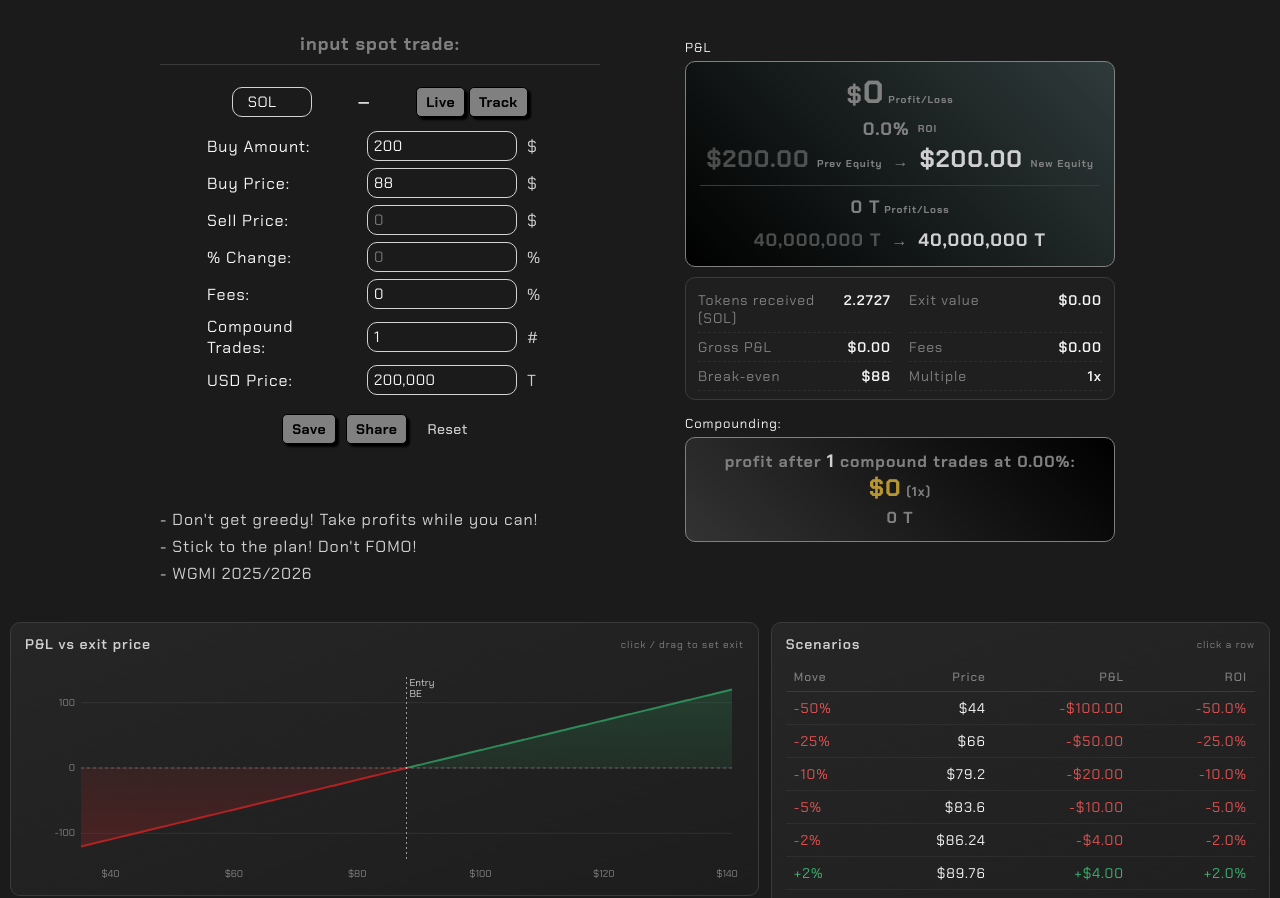
Test: Spot calculator inputs (no jumping) › formats large sell prices with separators while typing
Step 1. Type "12345" into the field named "Sell Price" → (442, 220), box [367,205,517,235]
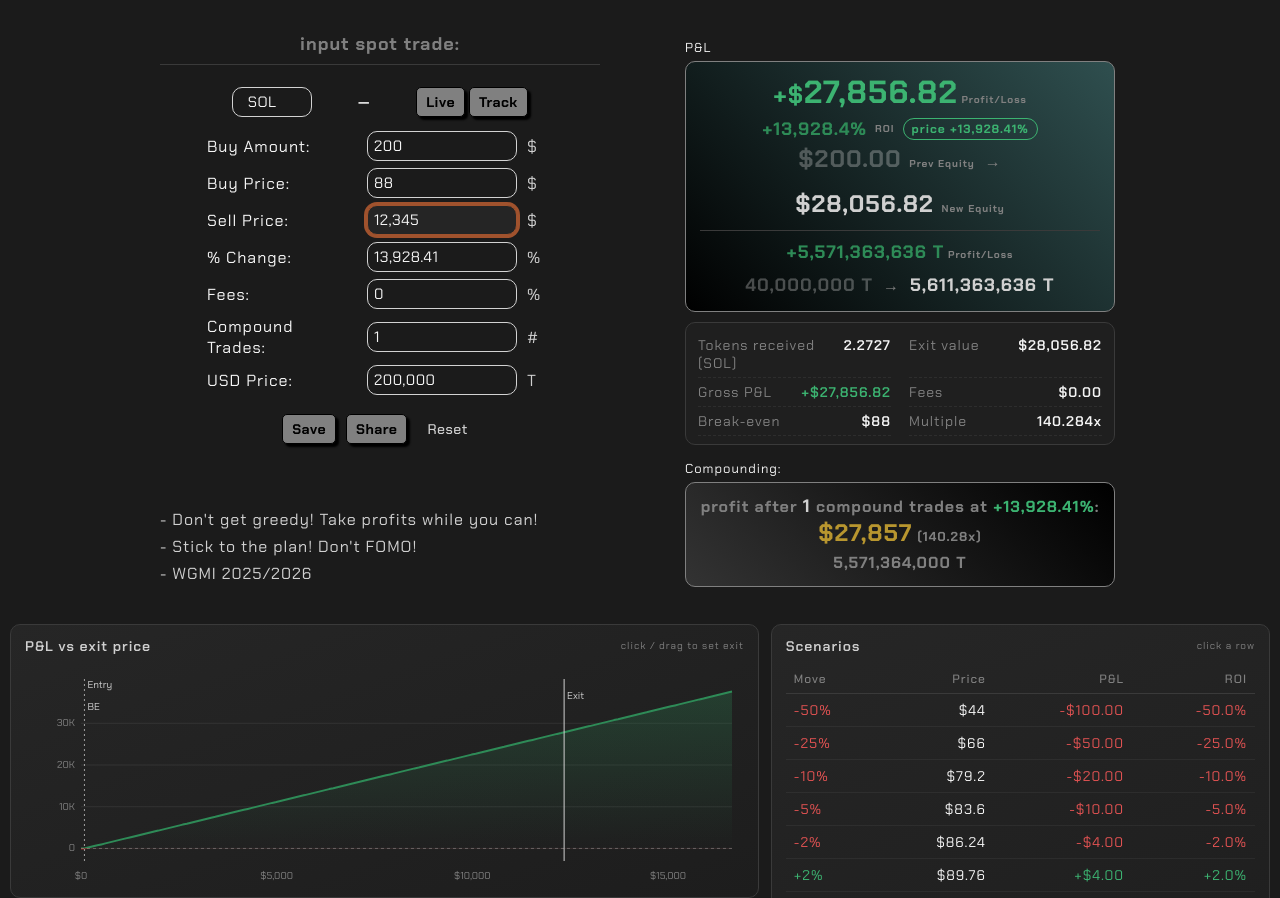
Now the field named "Sell Price" holds "12,345", box [367,205,517,235]
